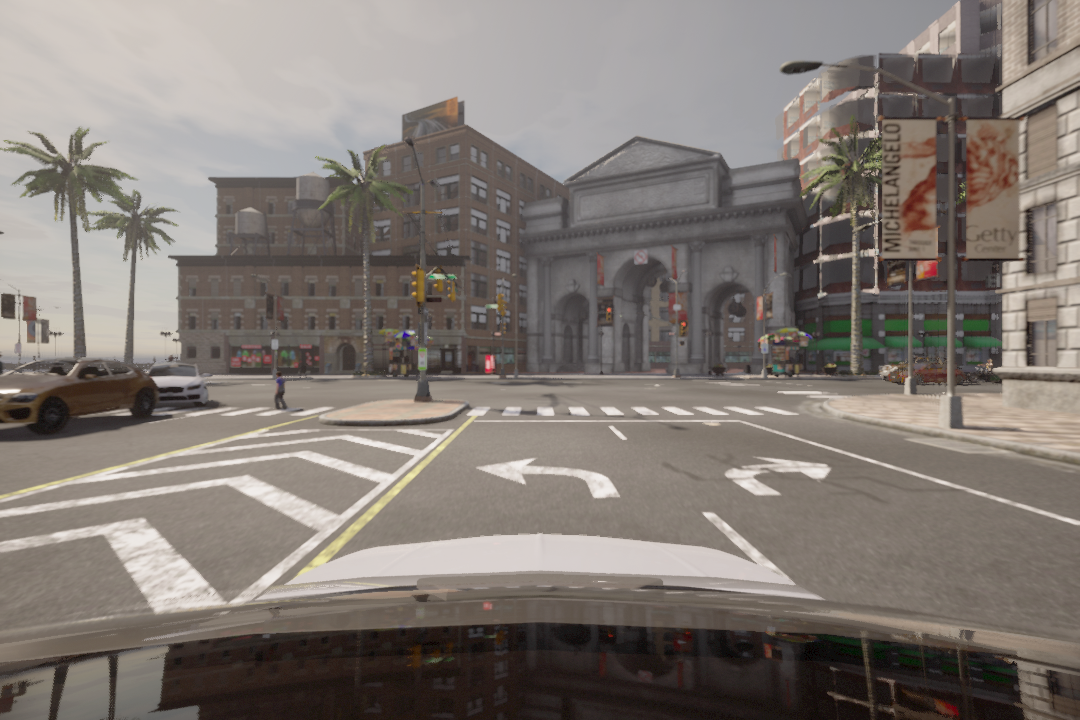RoadSign_right: (727, 451, 843, 497)
TrafficSign: (467, 450, 627, 507), (633, 249, 650, 267)
walkside: (464, 404, 804, 421), (152, 400, 333, 421)
